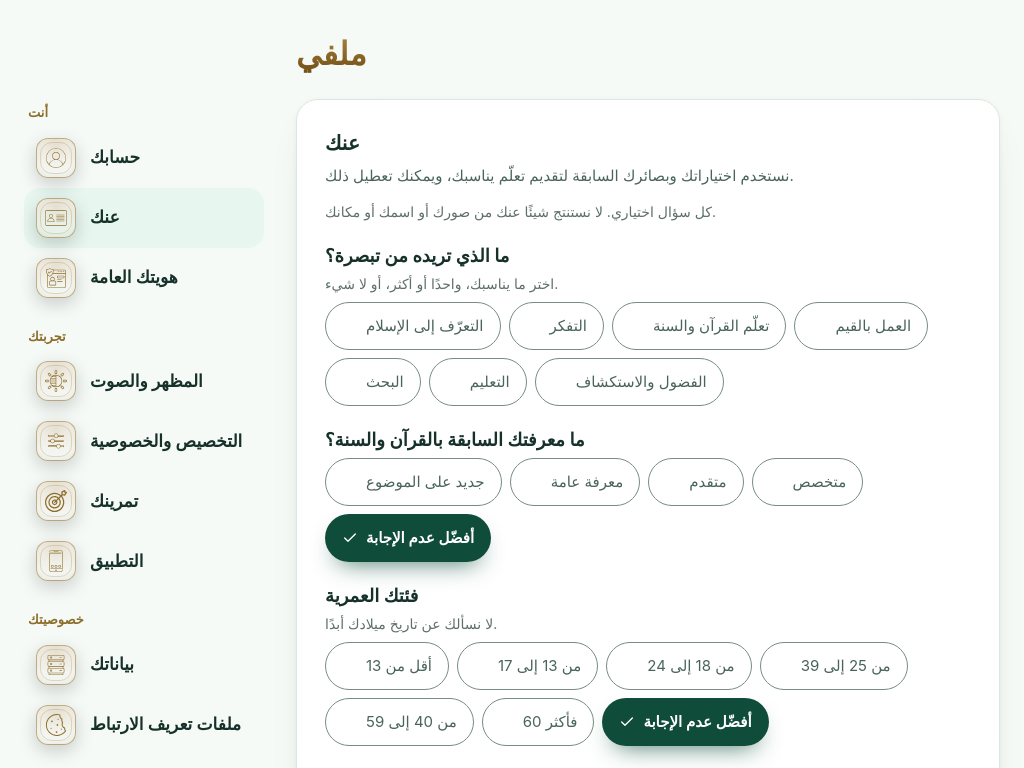
Test case: MeScreen signed in › saves each answer of «عنك» at once, and undoes one the API refused
This screenshot has width=1024, height=768.
Check: the text "نستخدم اختياراتك وبصائرك السابقة" is shown, box [325, 166, 794, 185]
Click the radio button labelled "متقدم" at {"x": 696, "y": 482}, box [648, 458, 744, 506]
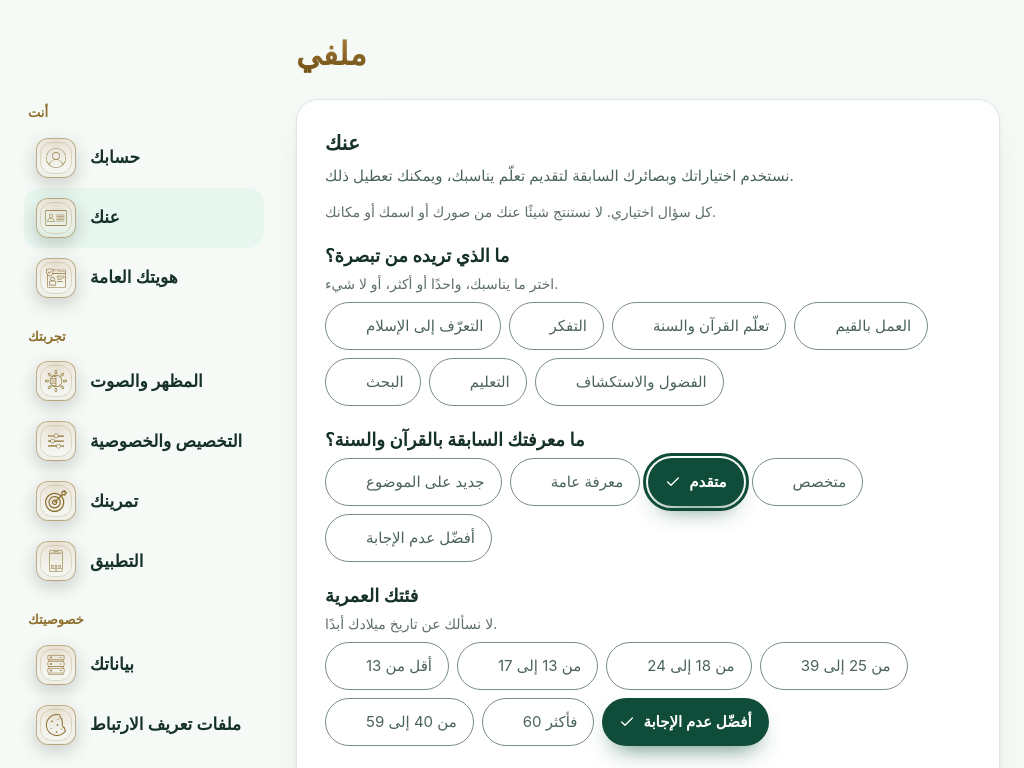
Click the checkbox labelled "التفكر" at {"x": 556, "y": 326}, box [508, 302, 604, 350]
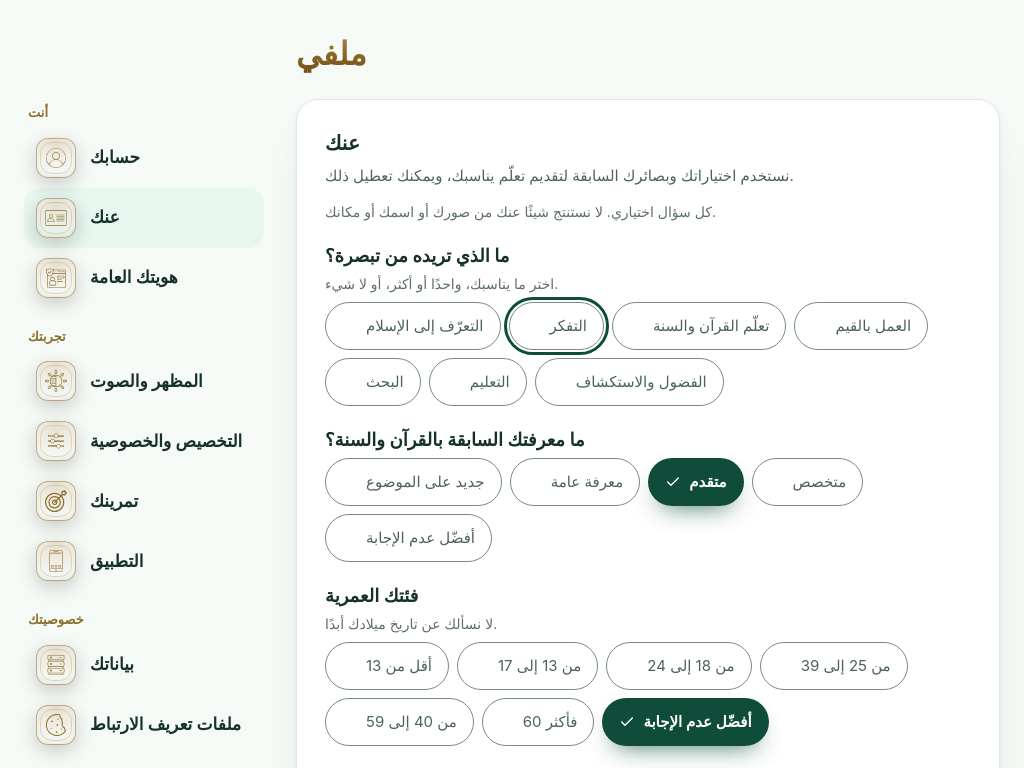
Click the radio button labelled "60 فأكثر" at {"x": 538, "y": 722}, box [482, 698, 594, 746]
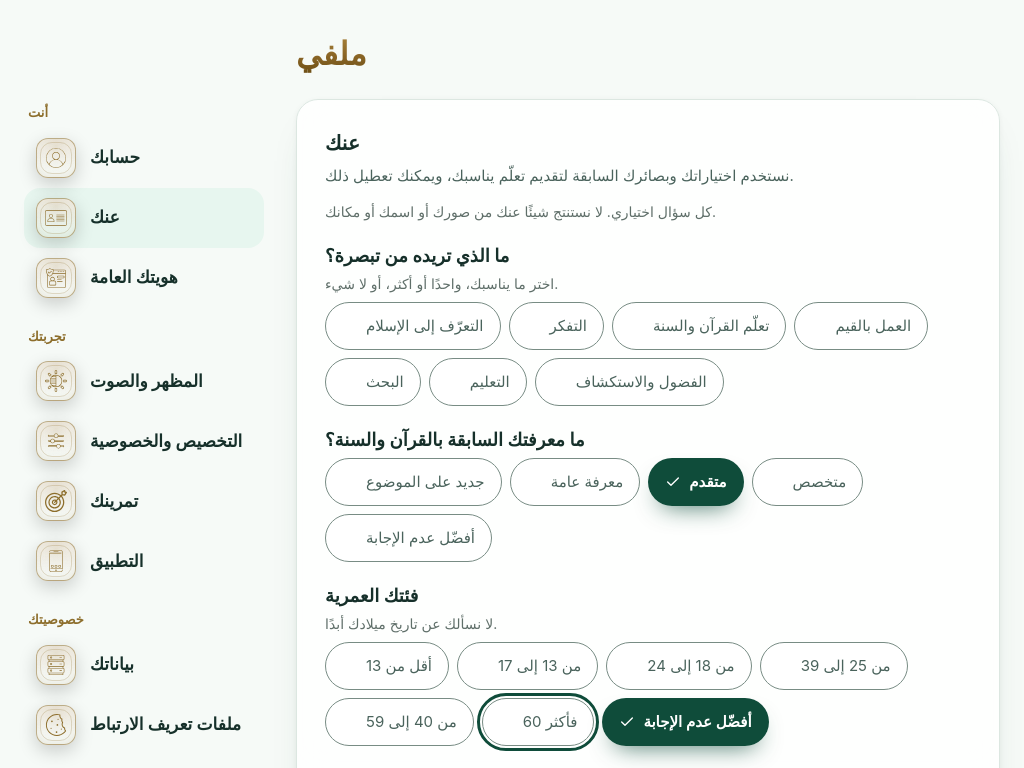
Click the radio button labelled "متخصص" at {"x": 807, "y": 482}, box [752, 458, 863, 506]
(page scrolled)
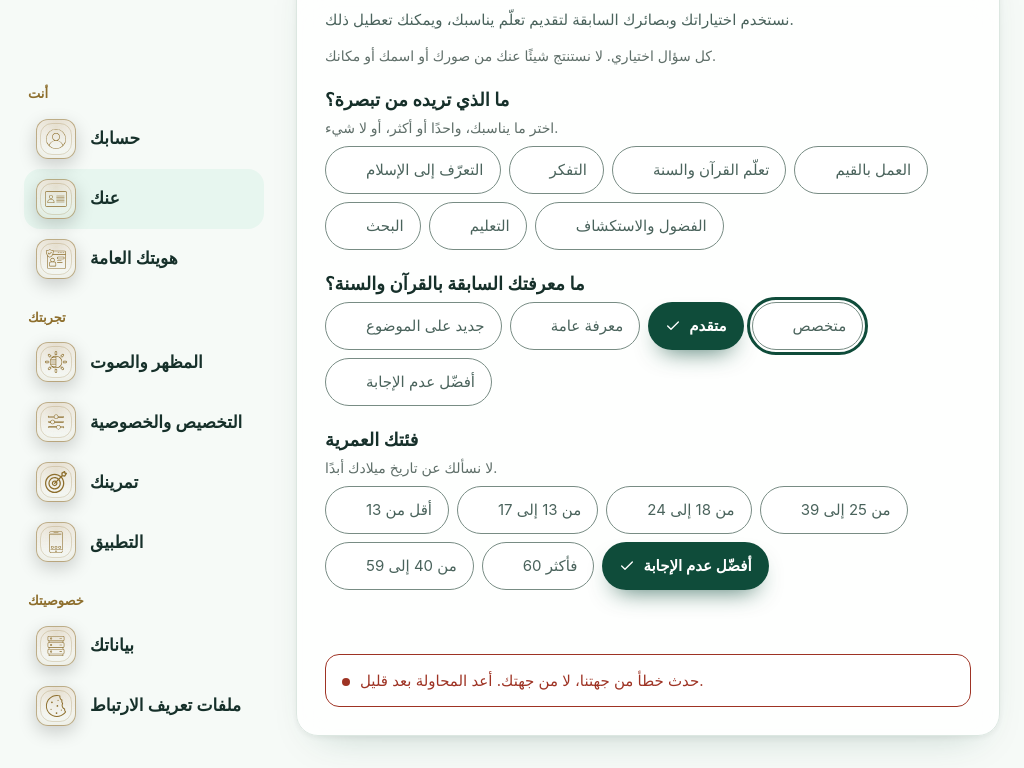
Check: the radio button labelled "متخصص" is not checked, box [752, 302, 863, 350]
Check: the message "حدث خطأ من جهتنا، لا من جهتك. أعد المحاولة بعد قليل." is shown, box [325, 654, 971, 707]
